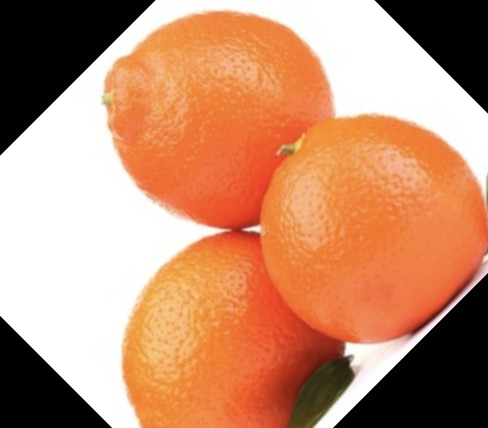fresh_orange: (263, 113, 488, 343), (106, 12, 335, 236), (118, 230, 348, 428)
